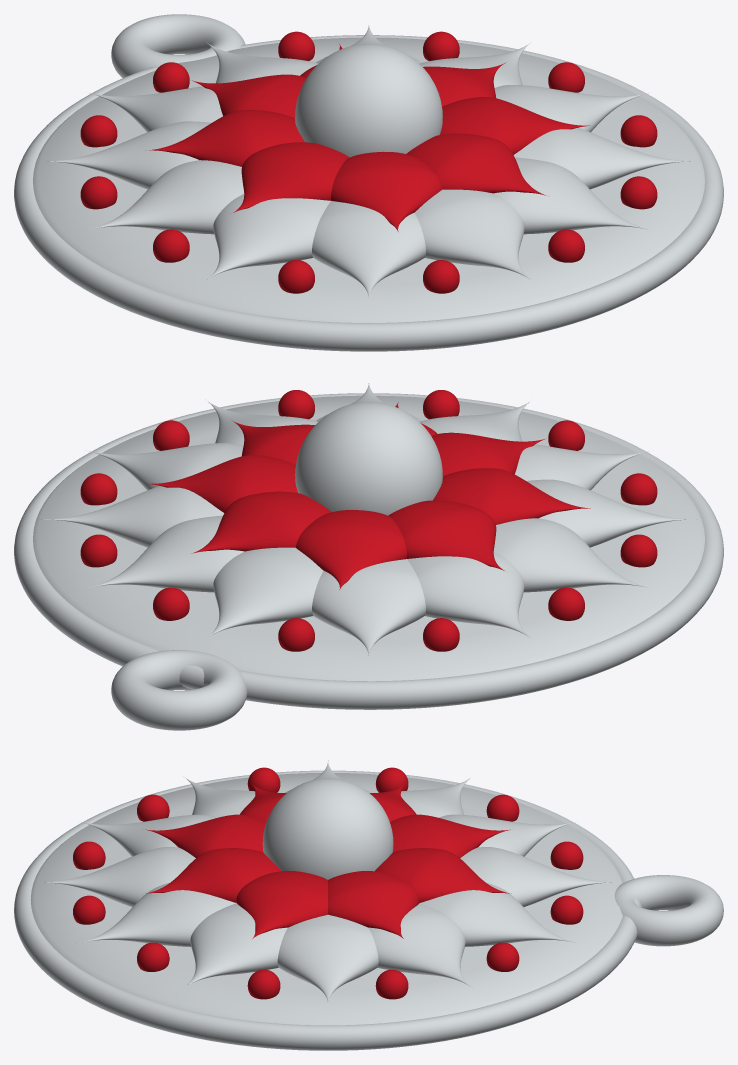
Rendered from mandala_medallion.glb.
3 views of the same model, one above another, from view 1: azimuth 30°, elevation 25°; view 2: azimuth 150°, elevation 25°; view 3: azimuth 270°, elevation 25° (orthographic). The views are drawn at different scales.
Visible parts, largest first — view 1: mandala_medallion; view 2: mandala_medallion; view 3: mandala_medallion.
Part boxes in pixels (left/top/right/bottom): mandala_medallion: left=14, top=14, right=723, bottom=351; mandala_medallion: left=14, top=383, right=723, bottom=730; mandala_medallion: left=14, top=760, right=723, bottom=1050.
Bounding box in the file's own units: 0.0442 × 0.0114 × 0.05.
